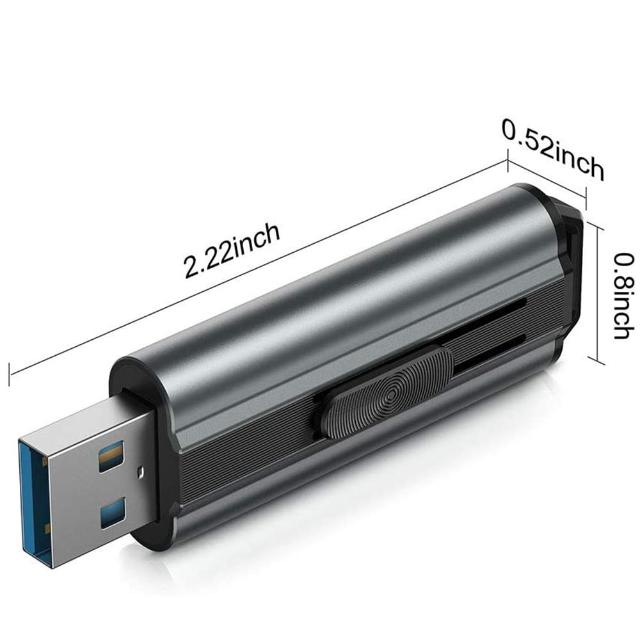USB-Flash-Drive: (14, 118, 604, 572)
